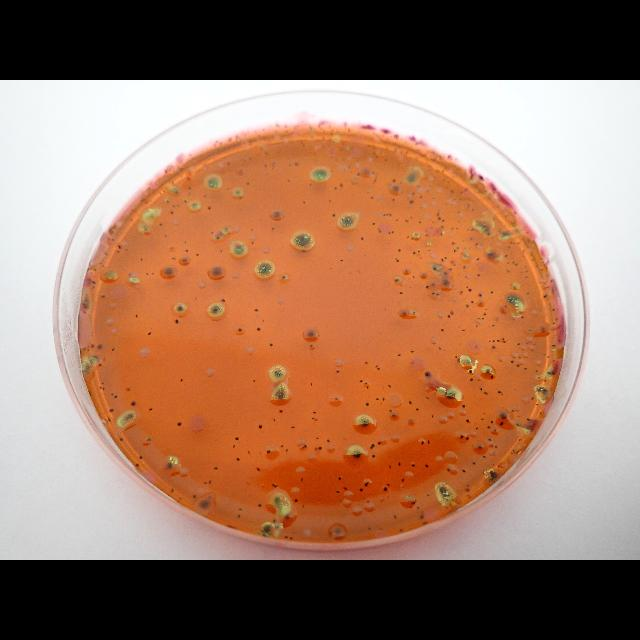colony: (254, 260, 274, 278), (292, 230, 312, 248), (208, 302, 225, 316), (312, 168, 328, 182), (339, 214, 355, 228), (435, 482, 449, 498), (506, 293, 522, 307), (274, 388, 290, 400), (232, 242, 246, 255), (207, 177, 221, 190), (261, 523, 273, 537), (161, 264, 175, 276), (444, 388, 458, 400), (486, 470, 499, 482), (306, 328, 318, 340), (198, 498, 210, 509), (210, 266, 223, 276), (332, 526, 344, 536), (360, 417, 370, 428), (273, 368, 283, 378), (498, 410, 508, 420), (406, 173, 416, 183), (430, 262, 440, 272), (190, 200, 200, 210), (536, 385, 548, 393), (353, 449, 362, 458), (176, 304, 186, 312), (272, 210, 282, 218), (273, 496, 281, 504), (392, 185, 400, 193), (486, 250, 494, 258), (424, 370, 432, 378), (442, 278, 450, 286), (166, 461, 174, 469), (96, 342, 104, 350), (172, 187, 180, 195), (124, 384, 132, 392), (400, 308, 408, 316), (181, 255, 189, 262), (233, 190, 240, 197), (403, 267, 411, 273), (476, 444, 484, 450), (456, 357, 464, 363), (268, 342, 274, 348), (237, 327, 243, 333), (256, 326, 262, 332), (220, 298, 226, 304), (174, 318, 180, 324), (281, 275, 287, 281), (301, 248, 307, 254), (284, 513, 290, 519), (419, 514, 425, 520), (446, 466, 452, 472), (382, 486, 388, 492), (130, 400, 136, 406), (128, 413, 134, 419), (108, 408, 114, 414), (100, 293, 106, 299), (449, 310, 455, 316), (478, 300, 484, 306), (254, 308, 260, 312), (251, 240, 255, 246), (118, 244, 122, 250), (115, 249, 121, 253), (340, 182, 344, 188), (408, 200, 414, 204), (394, 278, 400, 282), (266, 450, 272, 454), (272, 518, 276, 524), (393, 513, 397, 519), (398, 528, 404, 532), (406, 496, 412, 500), (465, 488, 471, 492), (462, 468, 466, 474), (468, 368, 472, 374), (540, 326, 546, 330), (334, 490, 340, 494), (342, 486, 348, 490), (300, 476, 304, 482), (234, 436, 240, 440), (238, 195, 242, 201), (264, 163, 268, 169), (392, 178, 396, 184), (478, 292, 482, 298), (542, 294, 548, 298), (420, 441, 426, 445), (426, 241, 432, 245), (442, 271, 448, 275), (192, 494, 198, 498), (135, 462, 139, 468), (146, 438, 152, 442), (176, 422, 182, 426), (107, 417, 111, 423), (166, 198, 170, 204), (447, 314, 451, 320), (334, 396, 338, 402), (92, 280, 96, 286), (216, 236, 220, 240), (250, 228, 254, 232), (224, 227, 228, 231), (151, 272, 155, 276), (145, 272, 149, 276), (140, 257, 144, 261), (105, 252, 109, 256), (170, 246, 174, 250), (159, 222, 163, 226), (170, 211, 174, 215), (208, 206, 212, 210), (246, 182, 250, 186), (226, 187, 230, 191), (334, 186, 338, 190), (328, 199, 332, 203), (332, 213, 336, 217), (372, 222, 376, 226), (361, 237, 365, 241), (378, 230, 382, 234), (392, 198, 396, 202), (388, 213, 392, 217), (405, 219, 409, 223), (399, 291, 403, 295), (309, 344, 313, 348), (388, 384, 392, 388), (382, 397, 386, 401), (366, 402, 370, 406), (336, 369, 340, 373), (272, 418, 276, 422), (258, 425, 262, 429), (280, 444, 284, 448), (257, 468, 261, 472), (208, 480, 212, 484), (236, 457, 240, 461), (232, 444, 236, 448), (274, 484, 278, 488), (294, 498, 298, 502), (284, 535, 288, 539), (276, 525, 280, 529), (368, 526, 372, 530), (416, 506, 420, 510), (426, 494, 430, 498), (465, 436, 469, 440), (460, 435, 464, 439), (466, 418, 470, 422), (500, 421, 504, 425), (510, 408, 514, 412), (516, 422, 520, 426), (488, 437, 492, 441), (492, 450, 496, 454), (518, 438, 522, 442), (530, 396, 534, 400), (498, 390, 502, 394), (484, 391, 488, 395), (469, 378, 473, 382), (492, 345, 496, 349), (474, 344, 478, 348), (552, 344, 556, 348), (528, 328, 532, 332), (425, 464, 429, 468), (411, 463, 415, 467), (401, 478, 405, 482), (388, 465, 392, 469), (359, 488, 363, 492), (338, 476, 342, 480), (304, 444, 308, 448), (318, 446, 322, 450), (314, 446, 318, 450), (326, 439, 330, 443), (425, 285, 429, 289), (431, 291, 435, 295), (468, 288, 472, 292), (490, 290, 494, 294), (483, 312, 487, 316), (504, 254, 508, 258), (552, 308, 556, 312), (462, 404, 466, 408), (408, 400, 412, 404), (416, 407, 420, 411), (377, 441, 381, 445), (371, 454, 375, 458), (340, 258, 344, 262), (432, 282, 436, 286), (462, 265, 466, 269), (237, 514, 241, 518), (171, 488, 175, 492), (120, 438, 124, 442), (148, 407, 152, 411), (114, 395, 118, 399), (110, 392, 114, 396), (102, 387, 106, 391), (180, 378, 184, 382), (147, 331, 151, 335), (98, 362, 102, 366), (91, 344, 95, 348), (124, 248, 128, 252), (412, 191, 416, 195), (464, 254, 468, 258), (530, 258, 534, 262), (440, 328, 444, 332), (438, 346, 442, 350), (412, 311, 416, 315), (94, 268, 98, 272), (270, 228, 276, 230), (197, 253, 200, 257), (112, 238, 115, 242), (165, 234, 168, 238), (302, 200, 306, 203), (370, 197, 374, 200), (418, 220, 422, 223), (366, 360, 368, 366), (396, 354, 402, 356), (410, 351, 414, 354), (278, 410, 284, 412), (214, 466, 218, 469), (205, 481, 208, 485), (546, 371, 550, 374), (511, 360, 514, 364), (481, 387, 484, 391), (491, 375, 494, 379), (386, 483, 389, 487), (436, 292, 439, 296), (471, 300, 474, 304), (461, 290, 464, 294), (425, 396, 429, 399), (426, 440, 429, 444), (313, 411, 317, 414), (290, 426, 296, 428), (441, 258, 444, 262), (441, 232, 444, 236), (437, 217, 441, 220), (178, 496, 182, 499), (88, 391, 92, 394), (112, 348, 115, 352), (184, 198, 186, 204), (376, 366, 379, 369), (491, 421, 494, 424), (366, 481, 369, 484), (456, 247, 459, 250), (436, 212, 439, 215), (172, 205, 175, 208), (220, 250, 222, 254), (210, 232, 214, 234), (185, 250, 189, 252), (184, 240, 186, 244), (174, 257, 176, 261), (172, 256, 174, 260), (288, 179, 290, 183), (388, 231, 390, 235), (392, 230, 394, 234), (382, 214, 386, 216), (386, 213, 388, 217), (412, 252, 416, 254), (396, 260, 400, 262), (376, 364, 378, 368), (412, 361, 414, 365), (376, 398, 380, 400), (364, 382, 368, 384), (310, 382, 312, 386), (286, 448, 288, 452), (248, 451, 250, 455), (302, 504, 304, 508), (258, 504, 262, 506), (290, 536, 292, 540), (379, 528, 383, 530), (414, 498, 416, 502), (411, 502, 415, 504), (466, 484, 470, 486), (466, 494, 470, 496), (472, 462, 476, 464), (482, 456, 486, 458), (494, 428, 496, 432), (494, 446, 498, 448), (512, 449, 516, 451), (526, 418, 530, 420), (516, 364, 520, 366), (454, 356, 458, 358), (518, 342, 520, 346), (492, 340, 496, 342), (546, 356, 550, 358), (552, 360, 556, 362), (542, 354, 546, 356), (532, 343, 536, 345), (542, 330, 546, 332), (398, 462, 400, 466), (316, 436, 318, 440), (258, 452, 262, 454), (466, 304, 468, 308), (520, 316, 524, 318), (484, 308, 488, 310), (477, 274, 481, 276), (515, 262, 517, 266), (524, 276, 528, 278), (540, 269, 544, 271), (432, 414, 434, 418), (314, 418, 318, 420), (398, 248, 400, 252), (451, 242, 455, 244), (441, 226, 445, 228), (364, 484, 368, 486), (238, 508, 242, 510), (88, 394, 92, 396), (101, 382, 105, 384), (136, 314, 138, 318), (188, 186, 190, 190), (188, 177, 190, 181), (248, 158, 252, 160), (358, 172, 360, 176), (374, 178, 376, 182), (420, 195, 422, 199), (450, 190, 454, 192), (464, 276, 468, 278), (477, 317, 481, 319), (476, 324, 478, 328), (461, 330, 465, 332), (204, 195, 206, 198), (406, 236, 409, 238), (411, 238, 414, 240), (366, 386, 369, 388), (252, 380, 255, 382), (476, 426, 478, 429), (481, 418, 484, 420), (511, 452, 514, 454), (496, 340, 499, 342), (312, 416, 314, 419), (476, 258, 479, 260), (476, 242, 478, 245), (100, 386, 102, 389), (177, 205, 180, 207), (466, 204, 469, 206), (451, 228, 454, 230), (511, 284, 514, 286), (262, 320, 264, 322), (228, 232, 230, 234), (310, 184, 312, 186), (396, 219, 398, 221), (410, 216, 412, 218), (418, 250, 420, 252), (420, 257, 422, 259), (395, 258, 397, 260), (412, 276, 414, 278), (390, 410, 392, 412), (360, 380, 362, 382), (272, 484, 274, 486), (497, 466, 499, 468), (492, 464, 494, 466), (488, 426, 490, 428), (513, 451, 515, 453), (540, 412, 542, 414), (536, 404, 538, 406), (545, 376, 547, 378), (538, 376, 540, 378), (536, 370, 538, 372), (524, 368, 526, 370), (526, 342, 528, 344), (502, 338, 504, 340), (504, 340, 506, 342), (489, 340, 491, 342), (552, 322, 554, 324), (544, 380, 546, 382), (517, 415, 519, 417), (302, 446, 304, 448), (466, 286, 468, 288), (505, 306, 507, 308), (482, 318, 484, 320), (508, 270, 510, 272), (514, 286, 516, 288), (527, 292, 529, 294), (526, 271, 528, 273), (556, 318, 558, 320), (372, 444, 374, 446), (370, 446, 372, 448), (428, 249, 430, 251), (444, 257, 446, 259), (450, 268, 452, 270), (454, 264, 456, 266), (454, 250, 456, 252), (470, 238, 472, 240), (433, 234, 435, 236), (442, 219, 444, 221), (508, 246, 510, 248), (512, 261, 514, 263), (507, 262, 509, 264), (500, 307, 502, 309), (172, 182, 174, 184), (462, 240, 464, 242), (518, 242, 520, 244), (522, 249, 524, 251), (492, 324, 494, 326), (100, 262, 102, 264)
